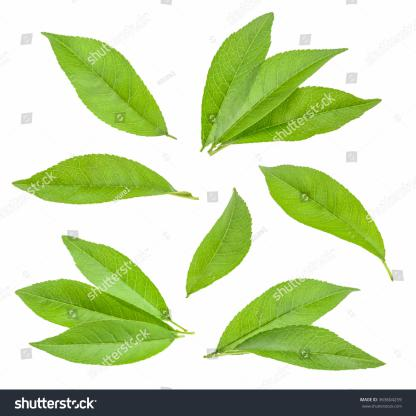peach leaf: (36, 29, 177, 139), (208, 46, 350, 149), (204, 278, 367, 358), (259, 162, 386, 264), (199, 7, 282, 151), (10, 147, 196, 210), (224, 82, 387, 150), (60, 234, 172, 322), (176, 189, 258, 297), (229, 321, 392, 373), (16, 275, 155, 335), (26, 318, 182, 369)
